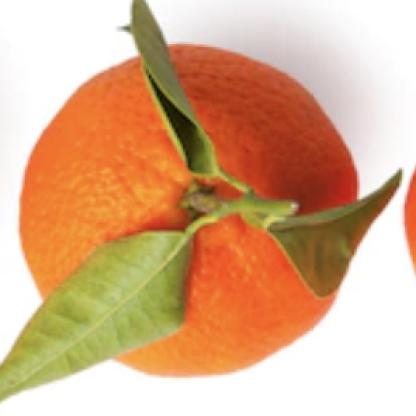fresh: (21, 40, 359, 382)
